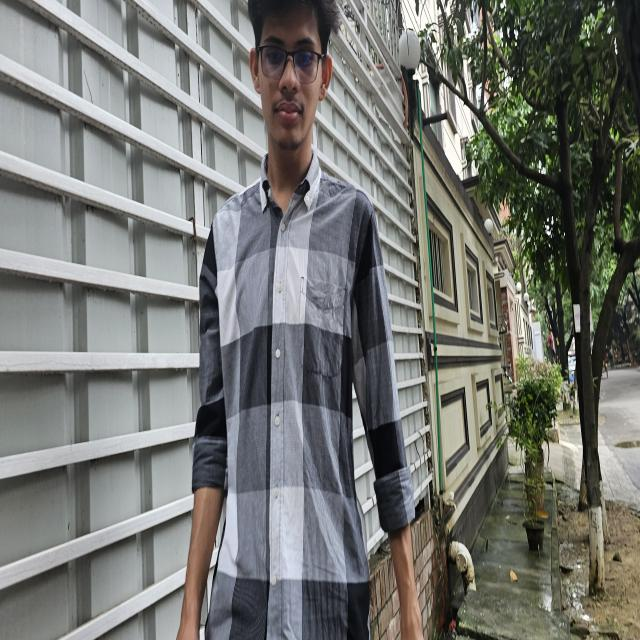artificial_container: (522, 514, 548, 556)
